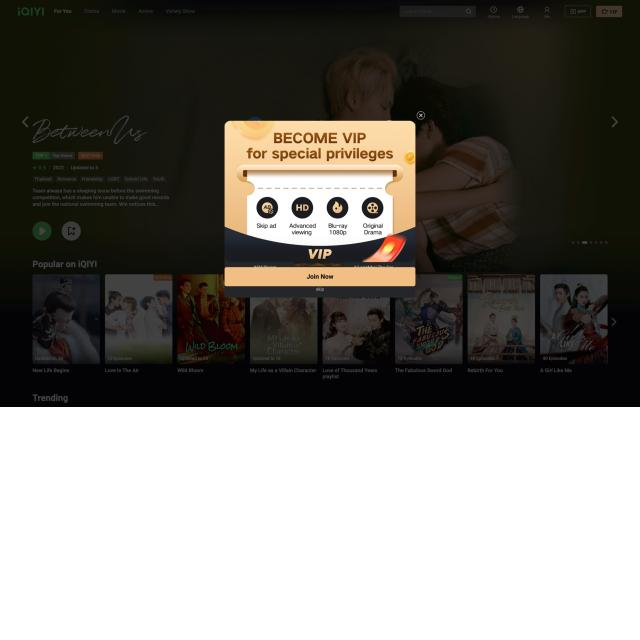CheckBox: (224, 266, 416, 286), (416, 110, 426, 120), (315, 286, 326, 292)
accordion: (256, 184, 384, 191)
carousel: (261, 201, 274, 215), (332, 200, 344, 214), (366, 202, 379, 214), (296, 204, 310, 212)
data feed: (287, 222, 318, 236), (326, 222, 349, 237), (362, 222, 384, 236), (255, 222, 278, 230)
header: (224, 120, 417, 298)
image: (243, 132, 395, 162)
